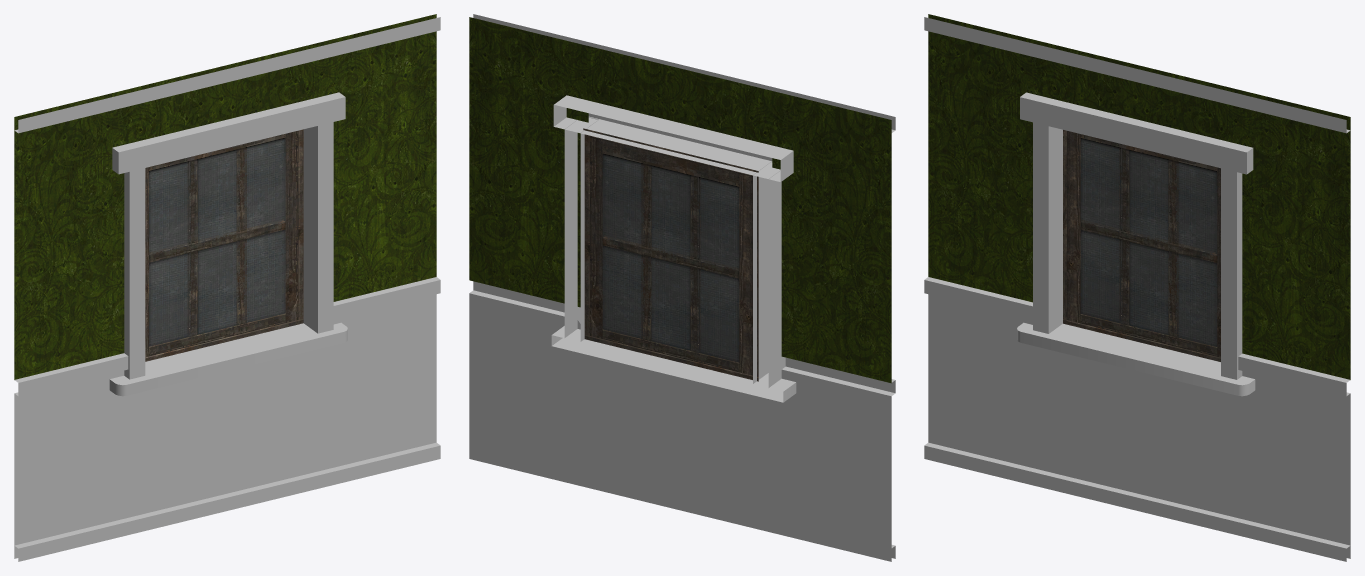
File: factory_office_01_window.DAE
The picture shows the model from 3 angles, left to right: view 1: azimuth 30°, elevation 25°; view 2: azimuth 150°, elevation 25°; view 3: azimuth 330°, elevation 25°; orthographic projection.
Parts seen in each view (by area): view 1: Object158, Object157, Plane003; view 2: Object158, Object157, Plane003; view 3: Object158, Object157, Plane003.
Part boxes in pixels (left/top/right/bottom): Object158: left=14, top=17, right=440, bottom=561; Object157: left=14, top=14, right=436, bottom=379; Plane003: left=145, top=129, right=303, bottom=361; Object158: left=469, top=14, right=895, bottom=561; Object157: left=469, top=17, right=891, bottom=383; Plane003: left=583, top=128, right=758, bottom=381; Object158: left=924, top=17, right=1350, bottom=561; Object157: left=928, top=14, right=1350, bottom=379; Plane003: left=1063, top=130, right=1220, bottom=361.
Bounding box in the file's own units: 4 × 4 × 0.3762.
